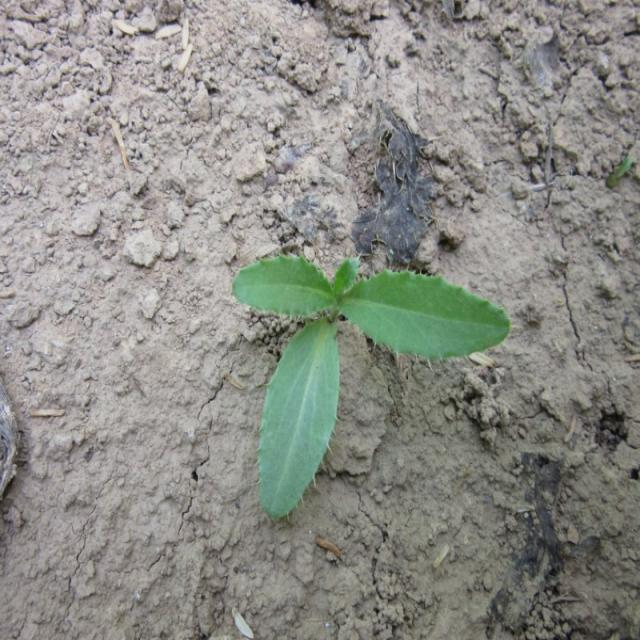field_thistle: (194, 223, 504, 513)
